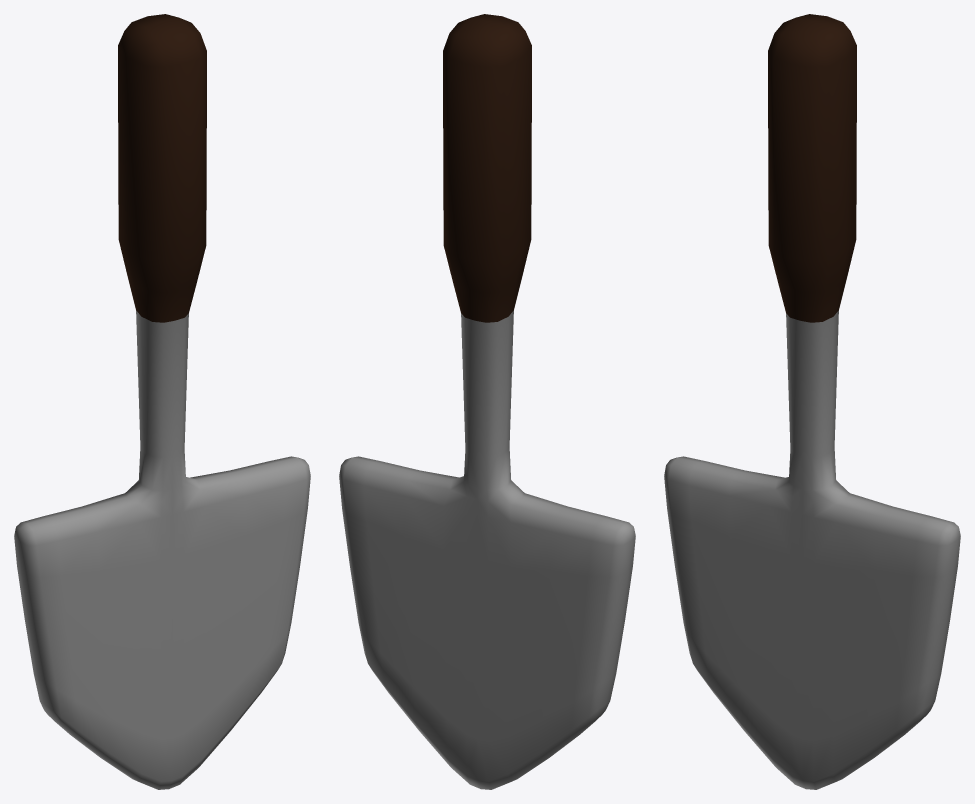
Rendered from minishovel.fbx.
3 renders of one model, left to right at view 1: azimuth 30°, elevation 25°; view 2: azimuth 150°, elevation 25°; view 3: azimuth 330°, elevation 25°, orthographic.
Visible parts, largest first — view 1: shovel; view 2: shovel; view 3: shovel.
Part boxes in pixels (x1,y1,x2,y2): shovel: (14,14,310,789); shovel: (339,14,635,789); shovel: (664,14,960,789).
Size of the model in its own units: 0.1451 by 0.369 by 0.0398.
